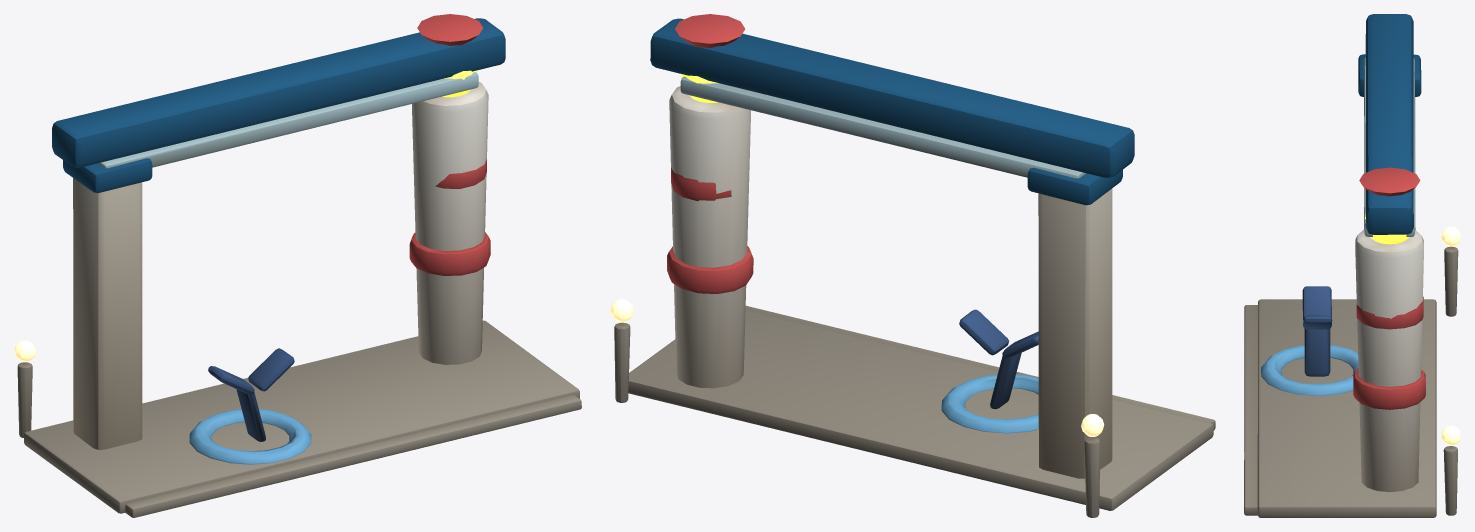
The picture shows the model from 3 angles, left to right: view 1: azimuth 30°, elevation 25°; view 2: azimuth 150°, elevation 25°; view 3: azimuth 270°, elevation 25°; orthographic projection. The views are drawn at different scales.
Parts seen in each view (by area): view 1: gate_11f527b0; view 2: gate_11f527b0; view 3: gate_11f527b0.
Boxes of the visible parts, <box> form: gate_11f527b0: <box>14,14,581,517</box>; gate_11f527b0: <box>610,14,1215,517</box>; gate_11f527b0: <box>1244,14,1460,517</box>.
Bounding box in the file's own units: 5.8 × 4.05 × 2.55.
